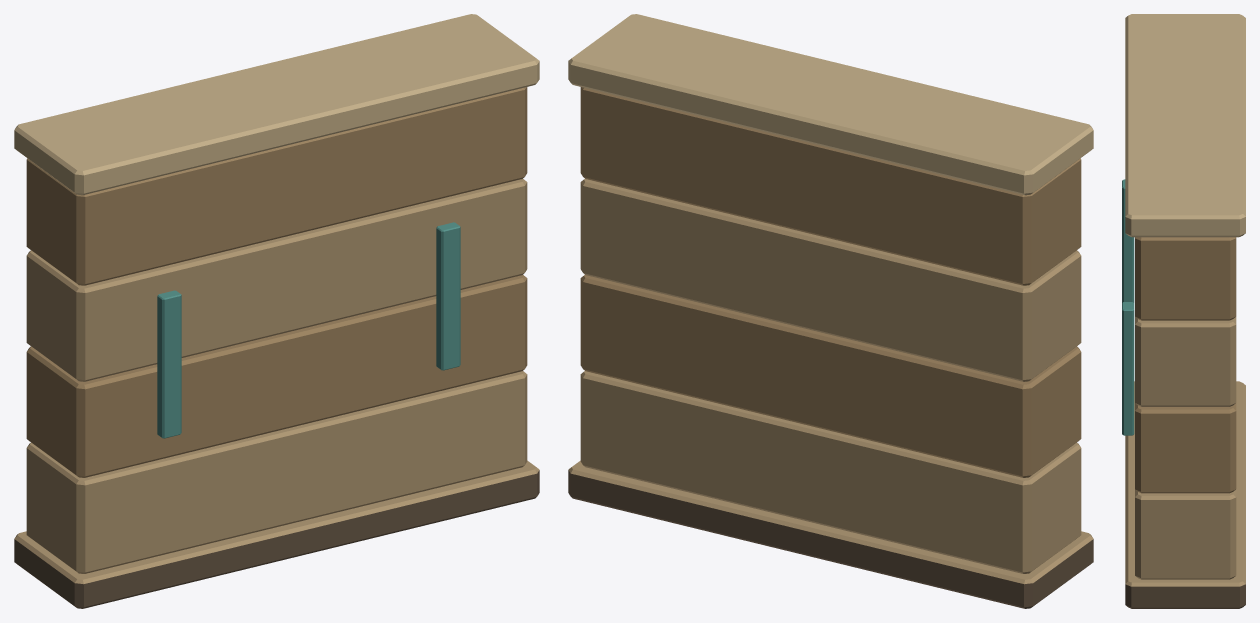
Rendered from wall-tall.glb.
3 renders of one model, left to right at view 1: azimuth 30°, elevation 25°; view 2: azimuth 150°, elevation 25°; view 3: azimuth 270°, elevation 25°, orthographic. The views are drawn at different scales.
Parts seen in each view (by area): view 1: wall-tall__body; view 2: wall-tall__body; view 3: wall-tall__body.
Boxes of the visible parts, box(x1,y1,x2,y2) form: wall-tall__body: box(14, 14, 539, 608); wall-tall__body: box(568, 14, 1093, 608); wall-tall__body: box(1122, 14, 1245, 608).
Bounding box in the file's own units: 2 × 1.8 × 0.513.
